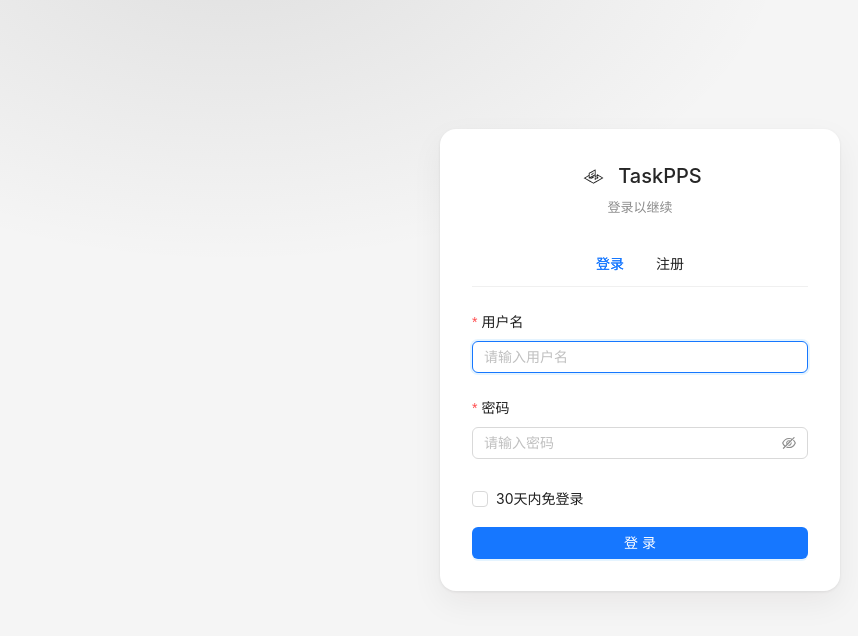
Test: LoginPage (issue #204) › TC-W173: 注册成功切登录 Tab 并预填用户名
The width and height of the screenshot is (858, 636).
切到注册 tab
Click the tab "注册" at (670, 264), box [656, 253, 684, 275]
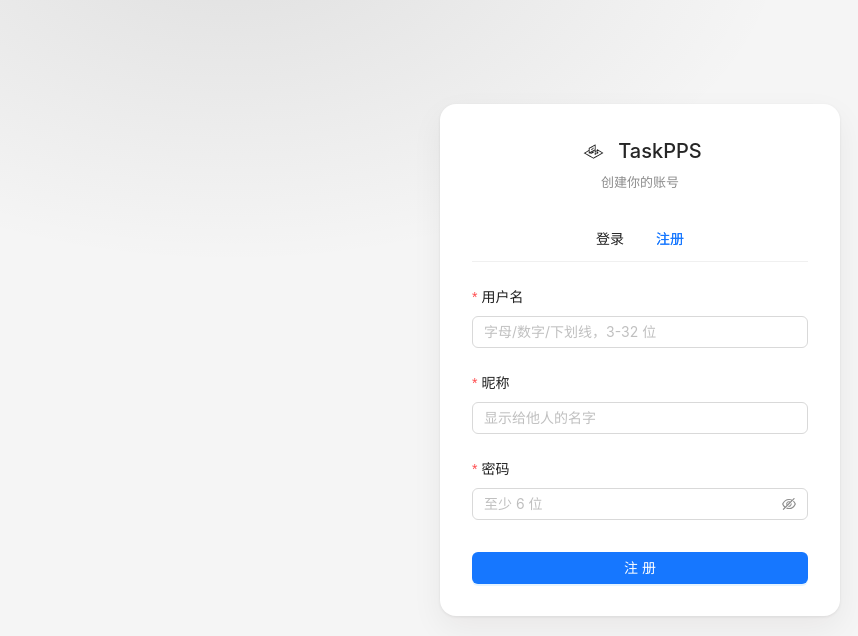
Check: the field with placeholder "显示给他人的名字" is shown, box [472, 402, 808, 434]
Type "alice" into the field with placeholder "字母/数字/下划线，3-32 位" at (640, 332), box [472, 316, 808, 348]
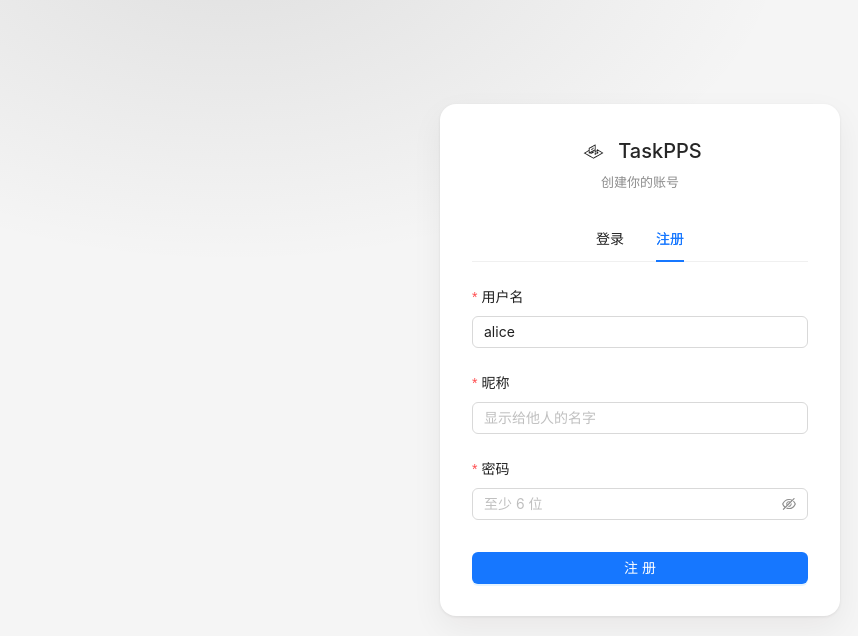
Type "Alice" into the field with placeholder "显示给他人的名字" at (640, 418), box [472, 402, 808, 434]
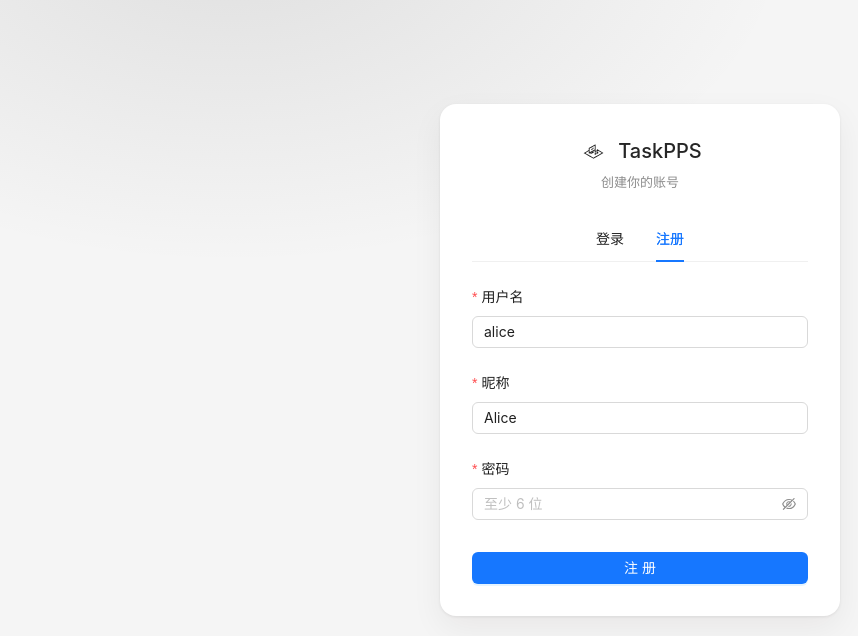
Type "pass123" into the password field with placeholder "至少 6 位" at (631, 504), box [484, 493, 778, 515]
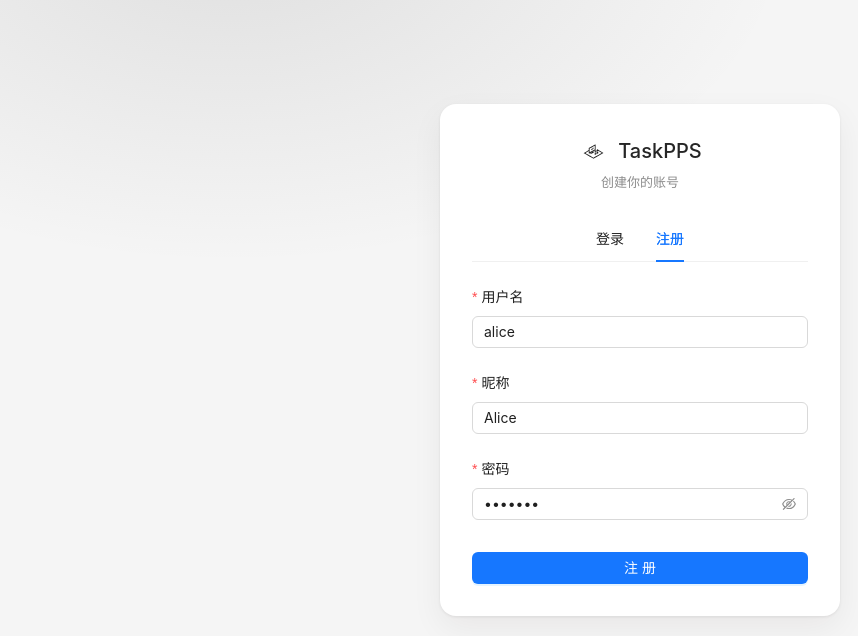
提交注册表单（按文本'注册'定位按钮）
Click the submit button at (640, 568), box [472, 552, 808, 584]
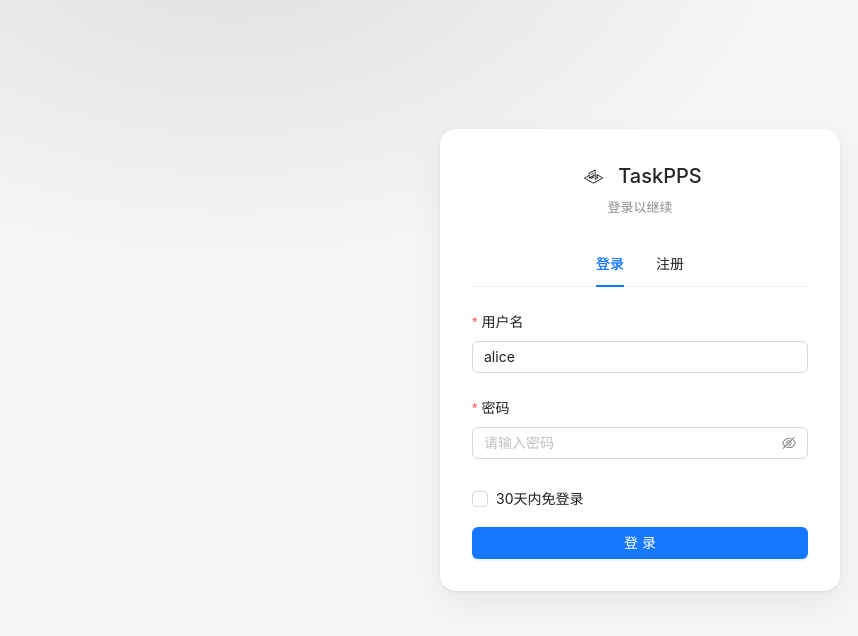
Check: the text "登录以继续" is shown, box [608, 197, 672, 217]
